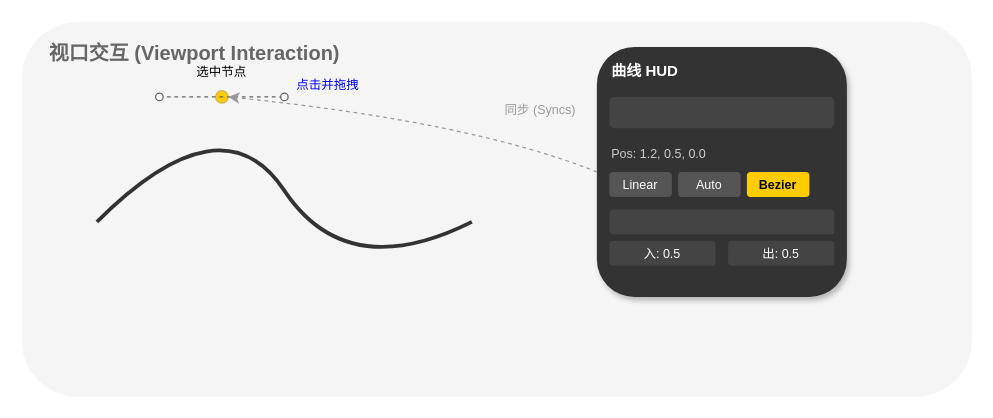
This 993x418 diagram has some shape labels left out. Here are the shapes that lost their labels. From the top down, the centre of each, then its label:
At (721,112): "绘制模式 (Draw Mode)".
At (721,221): "模式: 镜像 (Mirrored)".
